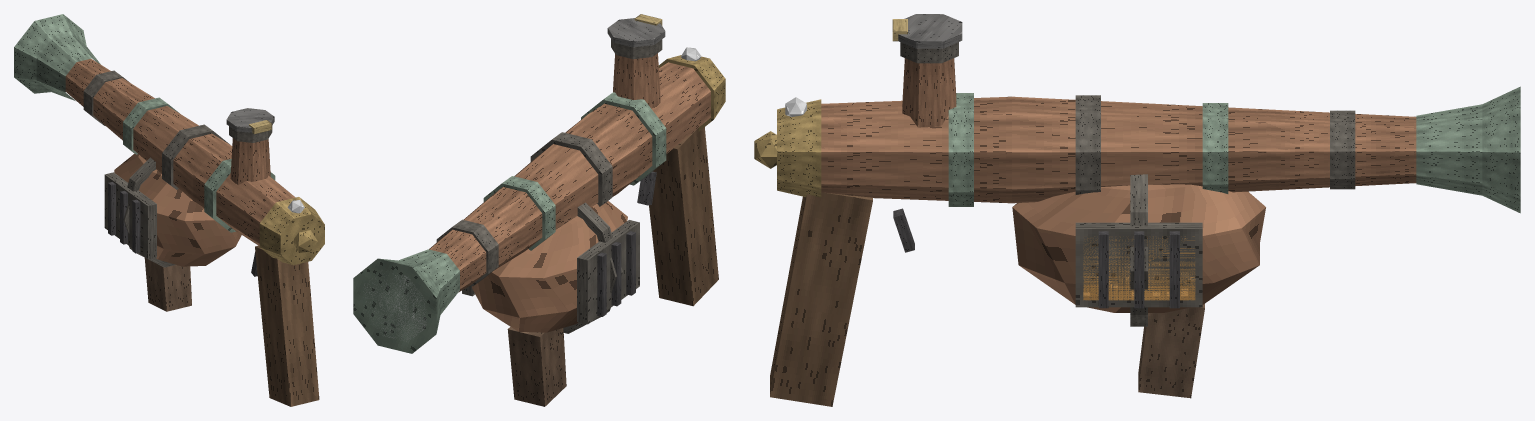
File: weapon_kiln.gltf
The picture shows the model from 3 angles, left to right: view 1: azimuth 30°, elevation 25°; view 2: azimuth 150°, elevation 25°; view 3: azimuth 270°, elevation 25°; orthographic projection. The views are drawn at different scales.
Visible parts, largest first — view 1: body, damper; view 2: body, damper, glow; view 3: body, coals, damper.
Part boxes in pixels (x1,y1,x2,y2): body: (14,14,324,406); damper: (226,108,274,134); body: (353,39,725,406); damper: (607,14,665,47); glow: (363,47,701,341); body: (754,42,1520,406); coals: (1083,236,1195,300); damper: (892,14,962,48).
Size of the model in its own units: 0.152 by 0.3222 by 0.6028.
Materials: 4 (4 with a texture image).
